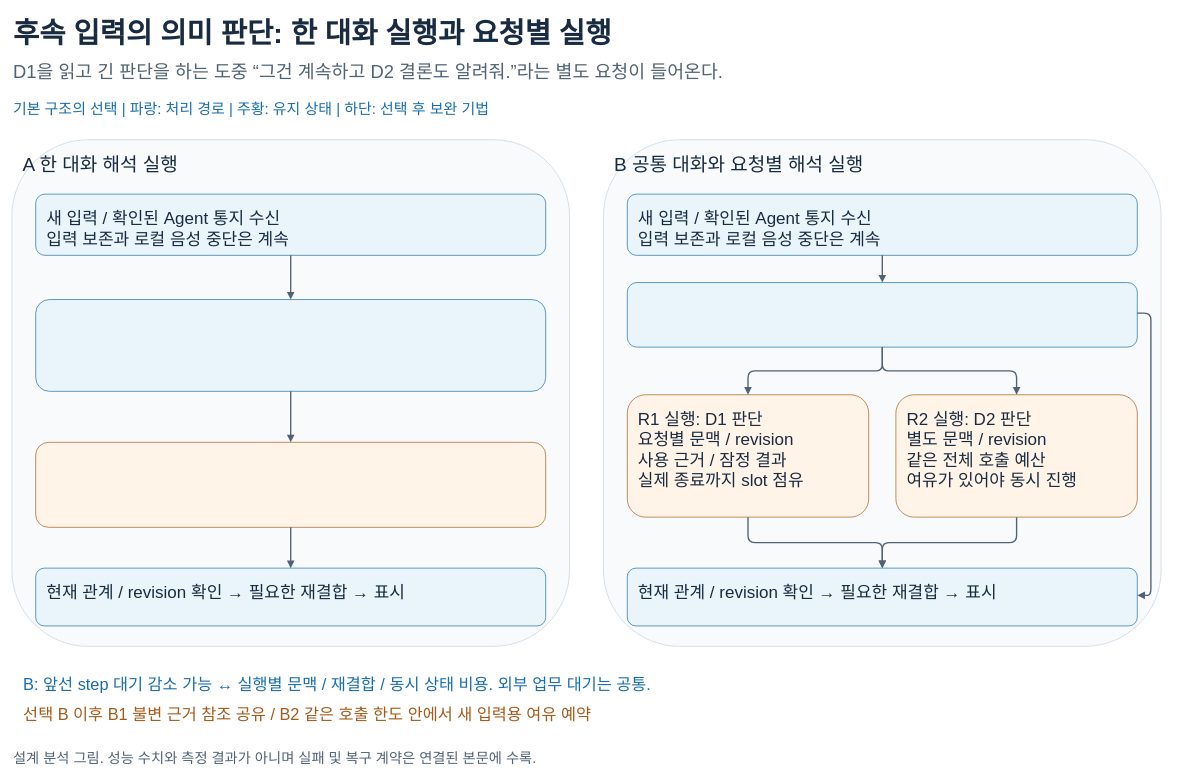
This 1183x779 diagram has some shape labels left out. The shapes that lost their labels are listed below. From the top down, each one's centre as x and y in pixels, then its label:
At (882,314): "공통 대화 해석: 입력 관계 판단 / 짧은 답 긴 읽기와 판단을 요청별 실행에 연결".
At (290,345): "현재 VIA 판단 step → 다음 판단 경계 새 입력의 관계와 내용 판단 앞선 목표 전체의 완료를 기다리는 구조는 아님".
At (290,484): "하나의 작업 문맥 + 요청별 잠정 상태 읽은 근거와 미해결 목표를 함께 보존 외부 Agent 대기에는 모델 호출 자원을 놓음".
